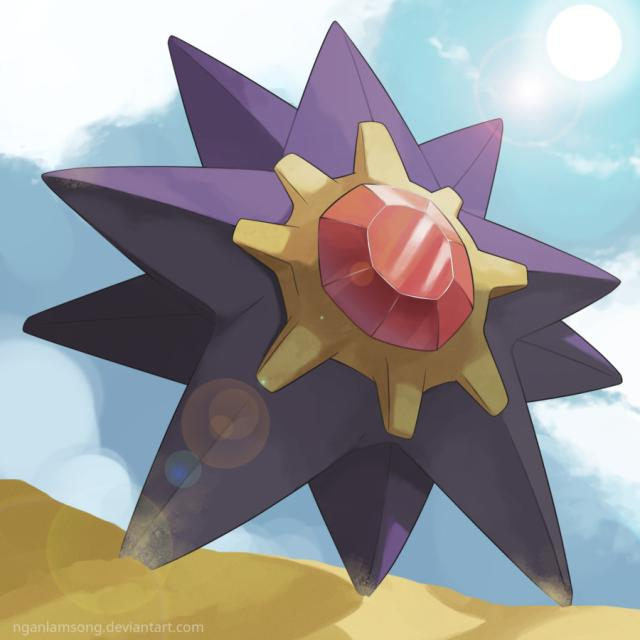Starmie: (118, 42, 592, 559)
